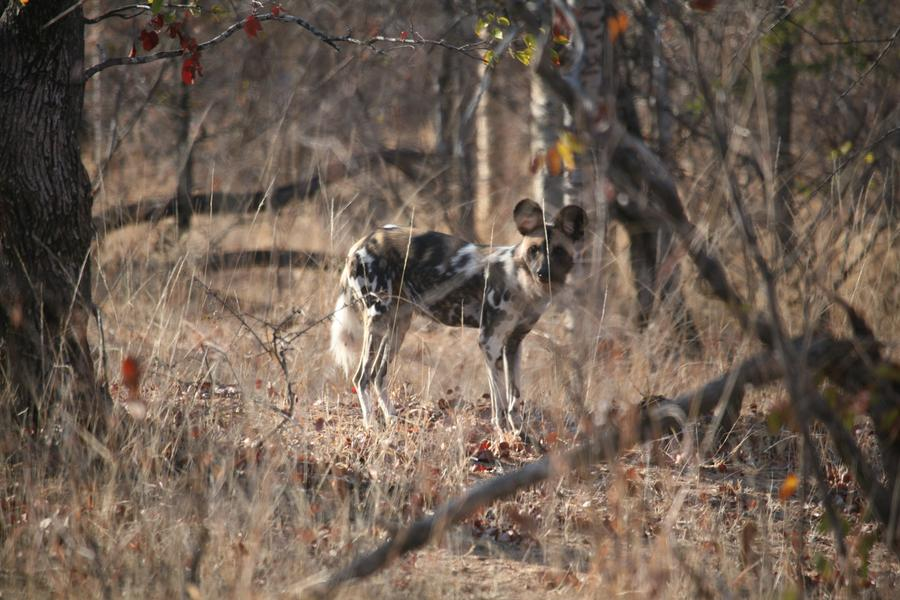wilddog: (333, 211, 586, 371)
